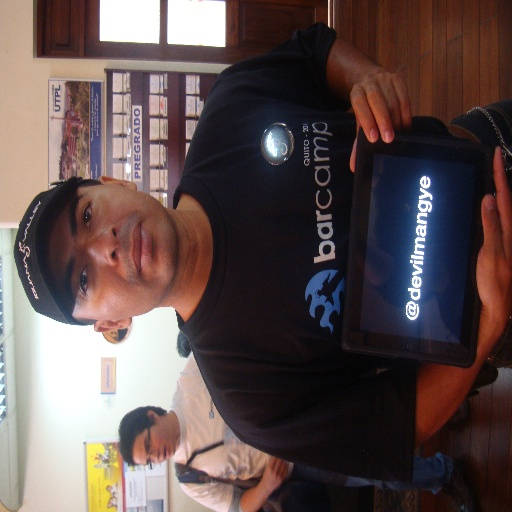hand: (316, 34, 423, 149), (475, 144, 511, 322), (260, 454, 289, 491)
